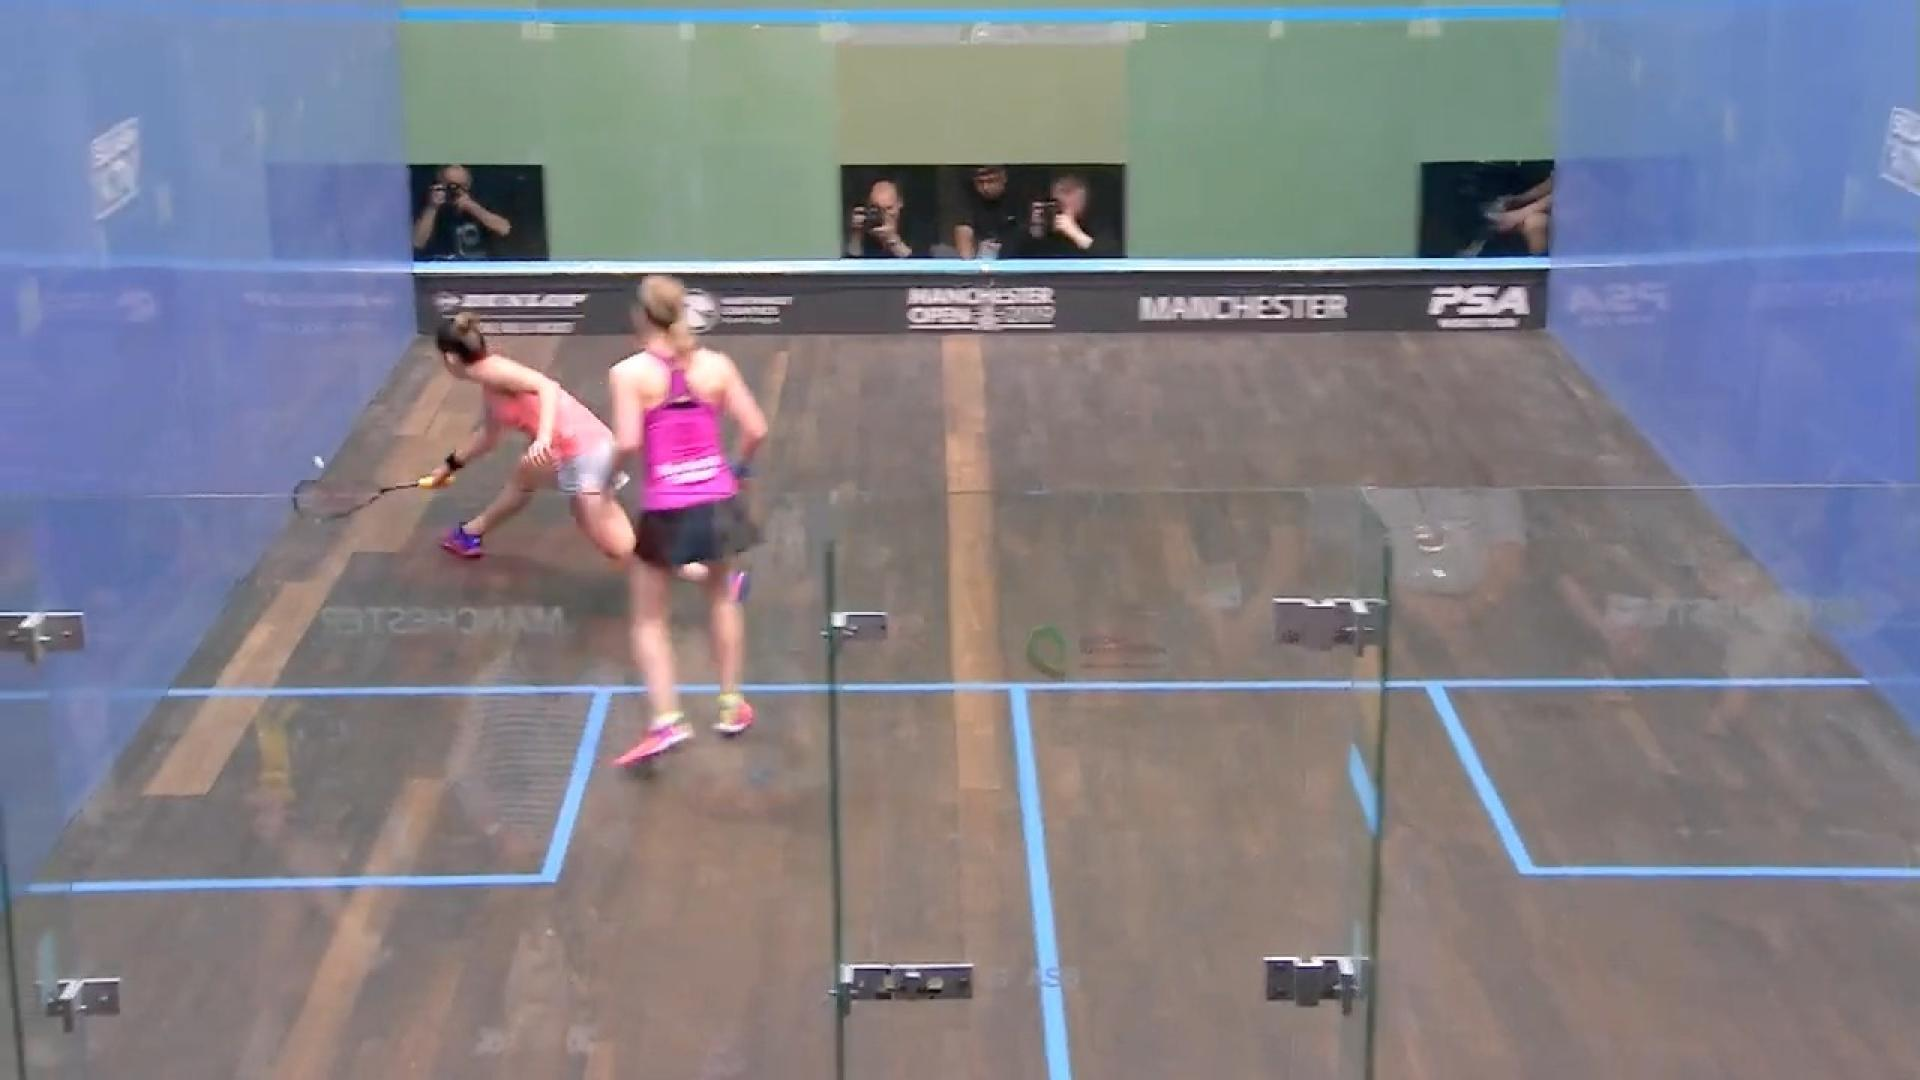Squash-Ball: (287, 430, 343, 491)
